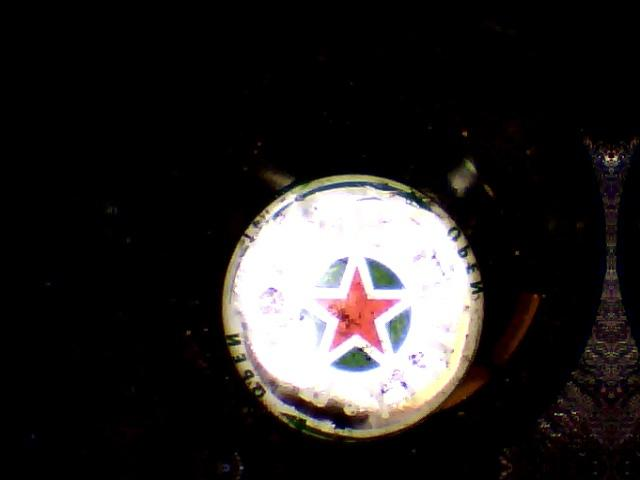capsule: (222, 169, 501, 448)
